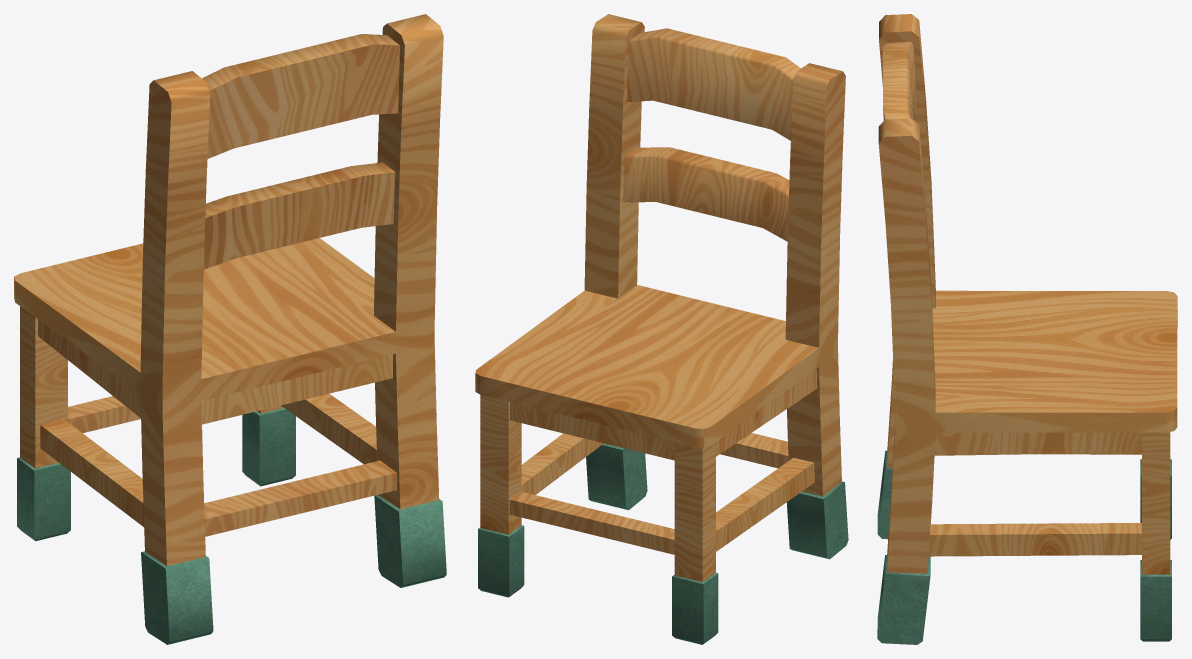
File: LivingRoom_Chair.fbx
3 views of the same model, side by side, from view 1: azimuth 30°, elevation 25°; view 2: azimuth 150°, elevation 25°; view 3: azimuth 270°, elevation 25° (orthographic). The views are drawn at different scales.
Visible parts, largest first — view 1: LivingRoom_Chair; view 2: LivingRoom_Chair; view 3: LivingRoom_Chair.
Part boxes in pixels (bbox=[...]): LivingRoom_Chair: bbox=[14, 14, 446, 644]; LivingRoom_Chair: bbox=[475, 14, 848, 644]; LivingRoom_Chair: bbox=[877, 14, 1177, 644].
Bounding box in the file's own units: 51.92 × 99.48 × 53.12.
